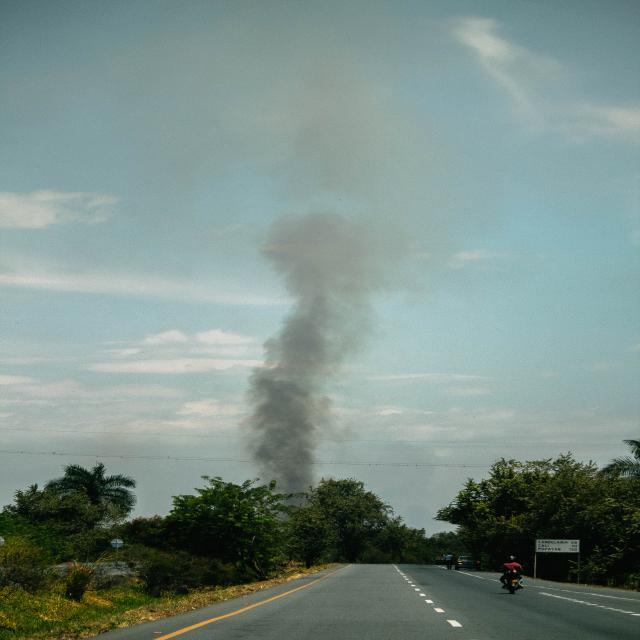Smoke: (210, 196, 420, 518)
